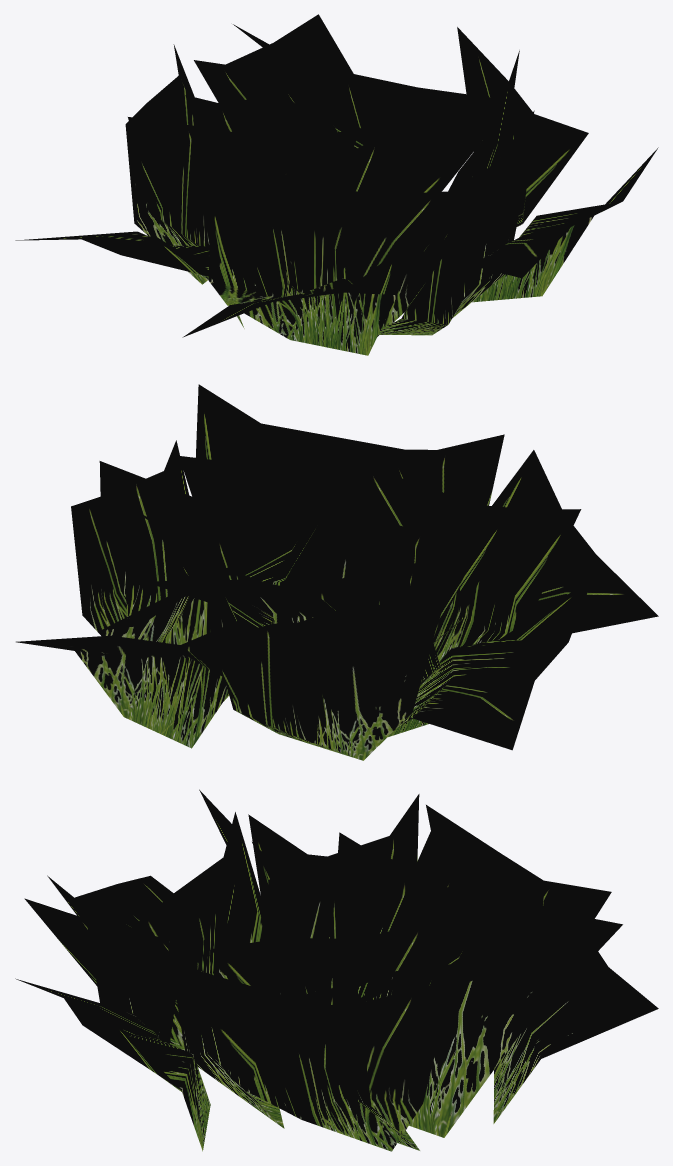
File: grass.fbx
3 views of the same model, one above another, from view 1: azimuth 30°, elevation 25°; view 2: azimuth 150°, elevation 25°; view 3: azimuth 270°, elevation 25° (orthographic). The views are drawn at different scales.
Visible parts, largest first — view 1: grass; view 2: grass; view 3: grass.
Part boxes in pixels (bbox=[...]): grass: bbox=[15, 14, 658, 355]; grass: bbox=[16, 384, 658, 760]; grass: bbox=[15, 789, 658, 1151].
Size of the model in its own units: 1.34 by 0.6163 by 1.48.
